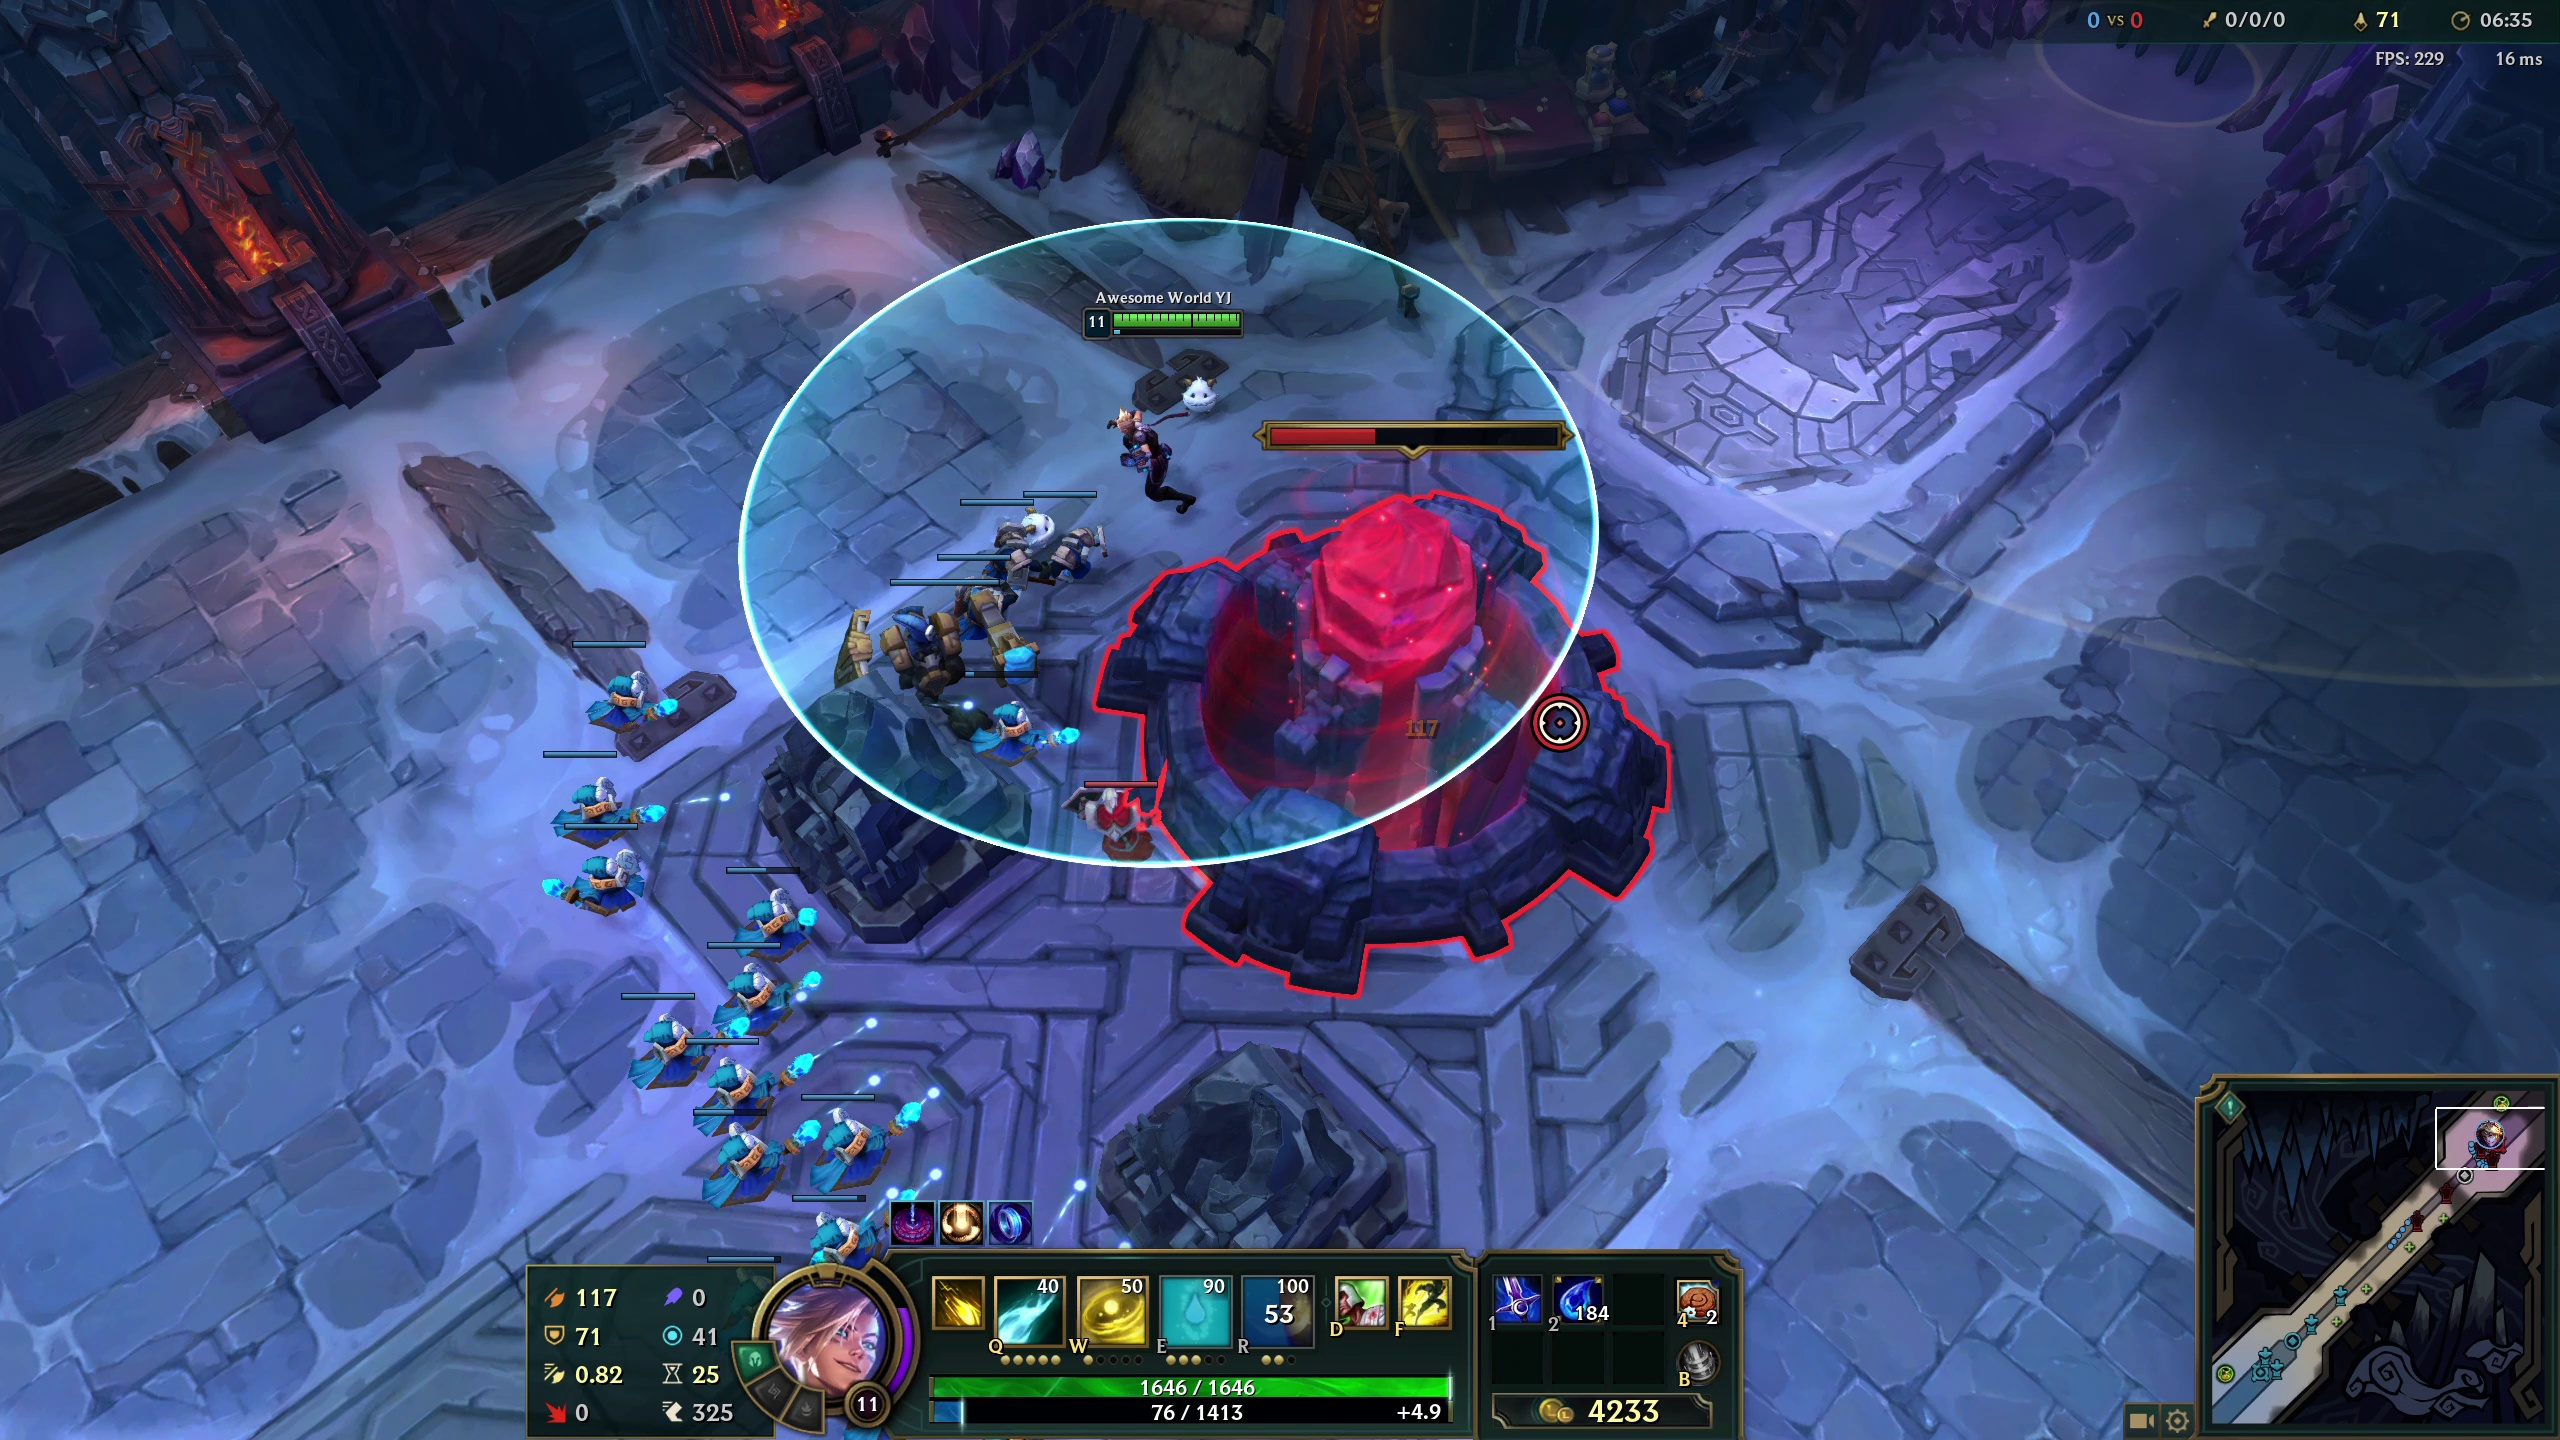EZ: (1104, 331, 1196, 505)
EnemyMinion: (1076, 779, 1152, 855)
Inhibitor: (1234, 538, 1586, 891)
MyMinion: (542, 819, 658, 913), (730, 853, 846, 946), (680, 1016, 796, 1109), (679, 1101, 795, 1194), (777, 1167, 893, 1261), (1027, 484, 1143, 577), (571, 636, 686, 730), (538, 740, 652, 833), (687, 925, 802, 1018), (593, 997, 707, 1090), (779, 1092, 893, 1185), (949, 663, 1064, 756), (949, 491, 1064, 584), (920, 517, 1034, 610)
MySuperMinnion: (846, 575, 965, 723)
